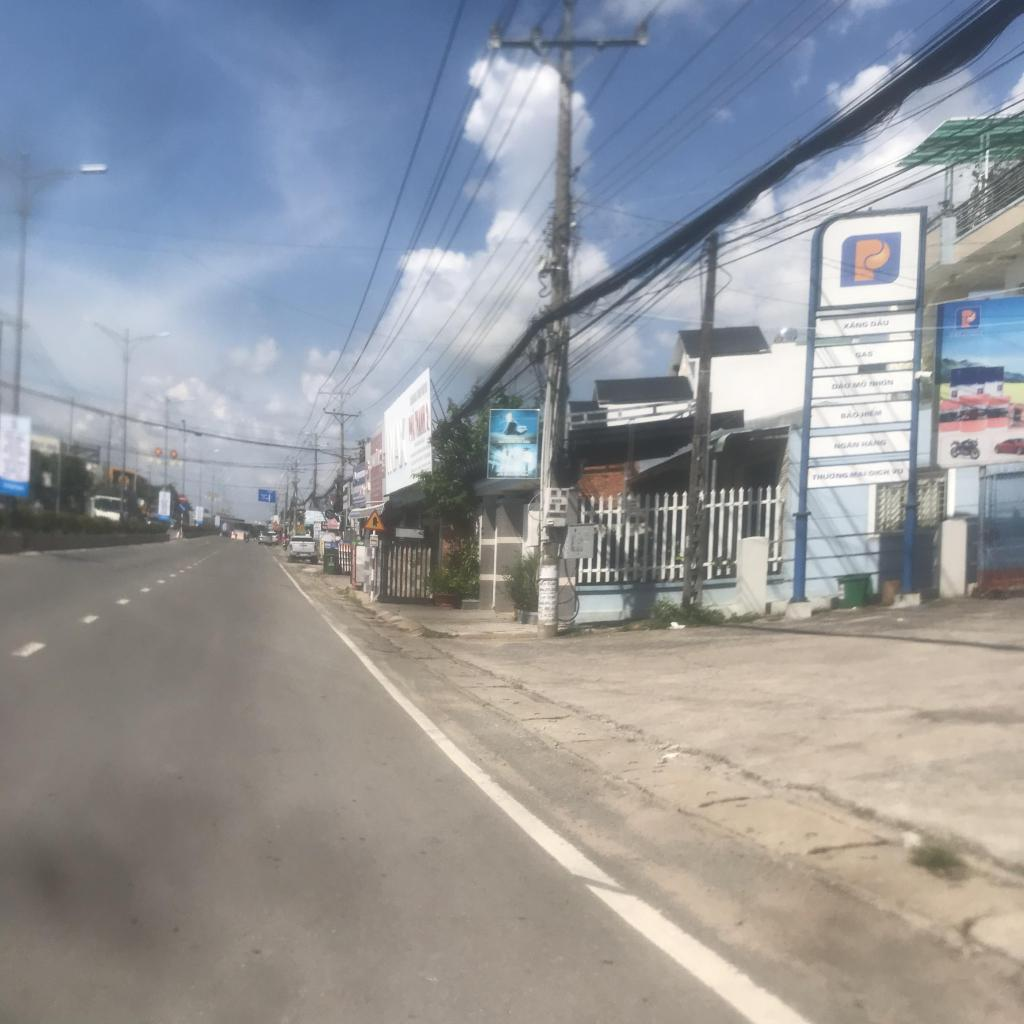cam_xe_di_nguoc_chieu: (178, 495, 186, 503)
giao_nhau_voi_duong_khong_uu_tien: (363, 509, 386, 531)
huong_phai_di_vuot_chuong_ngai_vat_phai: (178, 503, 186, 512)
khac: (258, 489, 276, 503)
